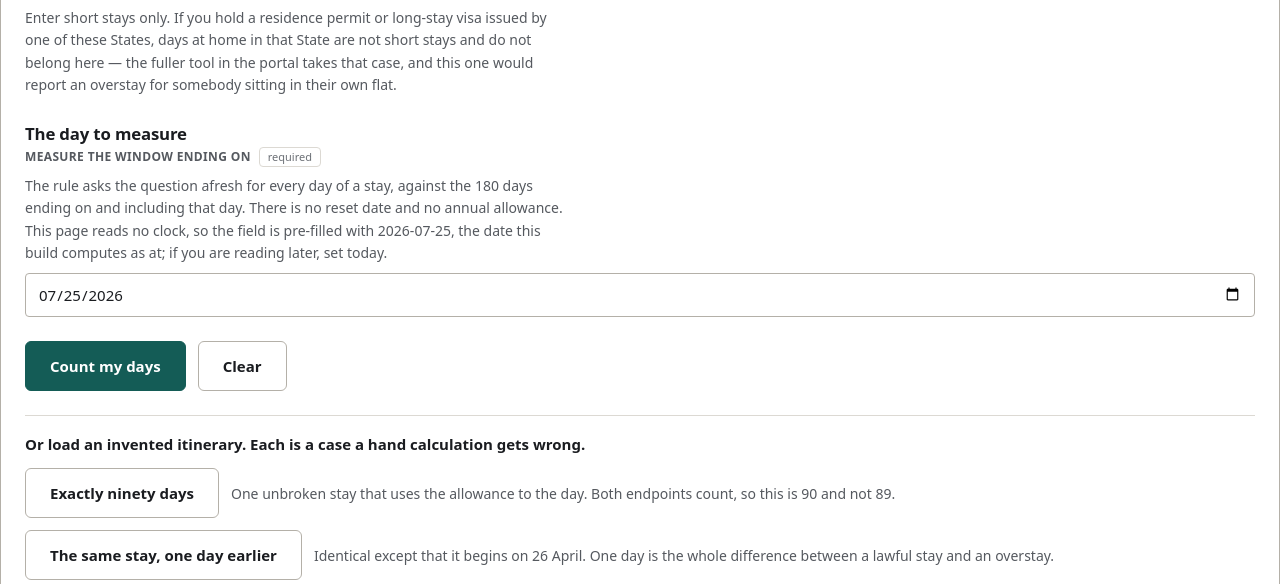
Test: the record that cannot decide › still shows the trip that charged nothing, with the reason
This screenshot has width=1280, height=584.
(page scrolled)
In the date field labelled "Measure the window ending on required": x=640, y=294 [25,272,1255,316], type "2024-12-31"
(page scrolled)
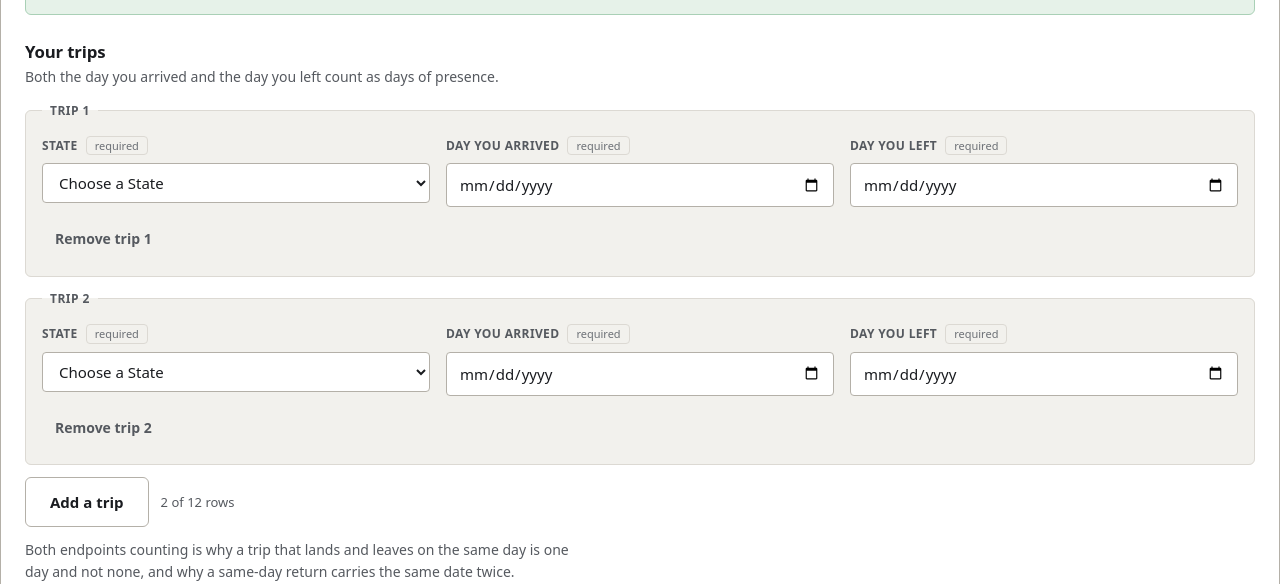
Select "Spain" in the 1st dropdown labelled "State required": x=236, y=183 [42,163,430,203]
In the 1st date field labelled "Day you arrived required": x=640, y=185 [446,163,834,207], type "2024-10-01"
In the 1st date field labelled "Day you left required": x=1044, y=185 [850,163,1238,207], type "2024-12-01"
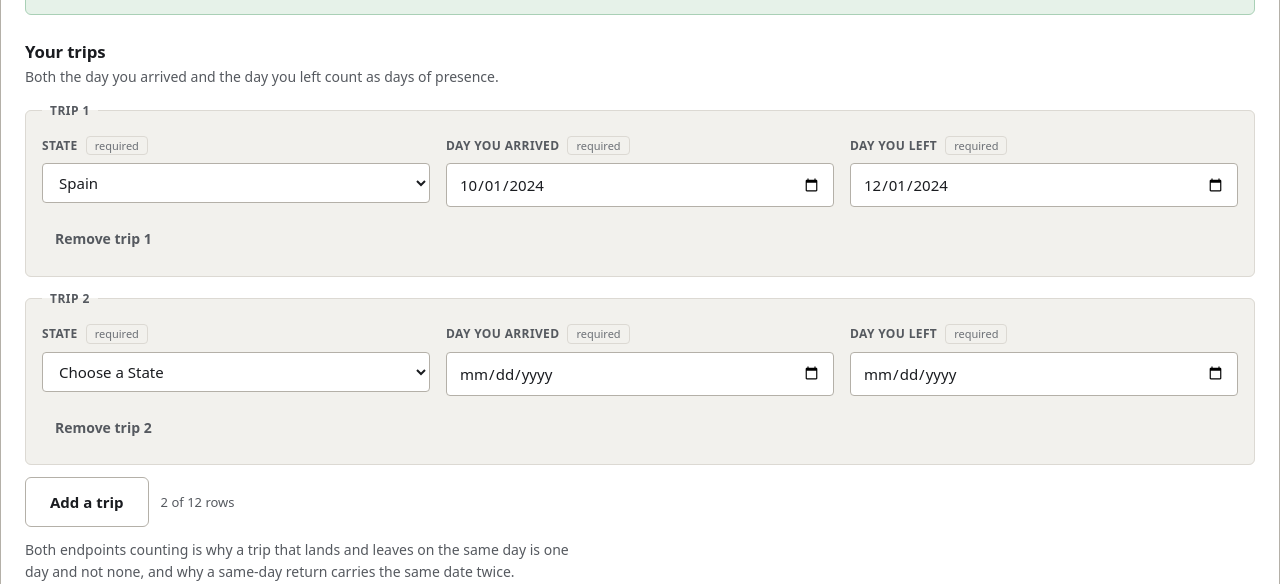
Select "Bulgaria" in the 2nd dropdown labelled "State required": x=236, y=372 [42,352,430,392]
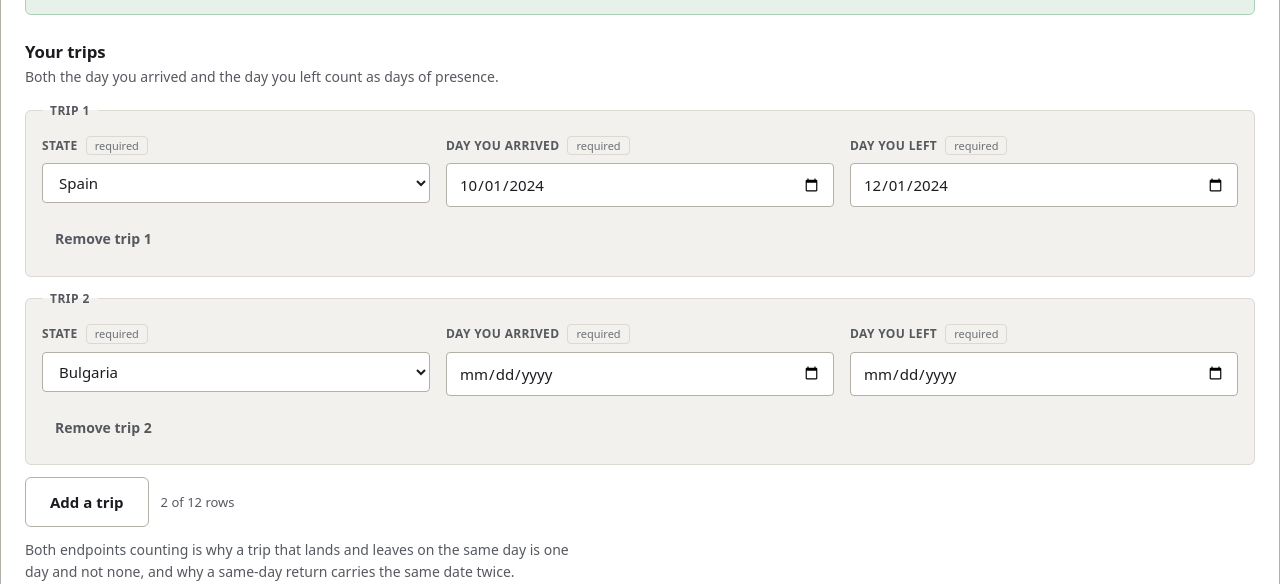
In the 2nd date field labelled "Day you arrived required": x=640, y=374 [446,352,834,396], type "2024-12-02"
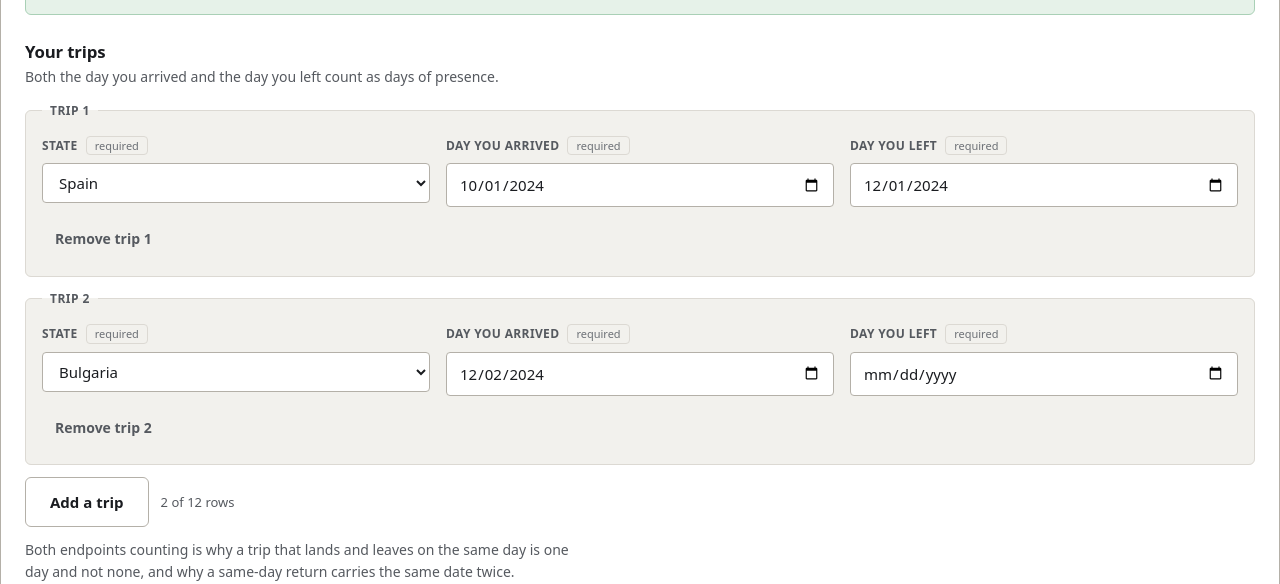
In the 2nd date field labelled "Day you left required": x=1044, y=374 [850,352,1238,396], type "2024-12-31"
(page scrolled)
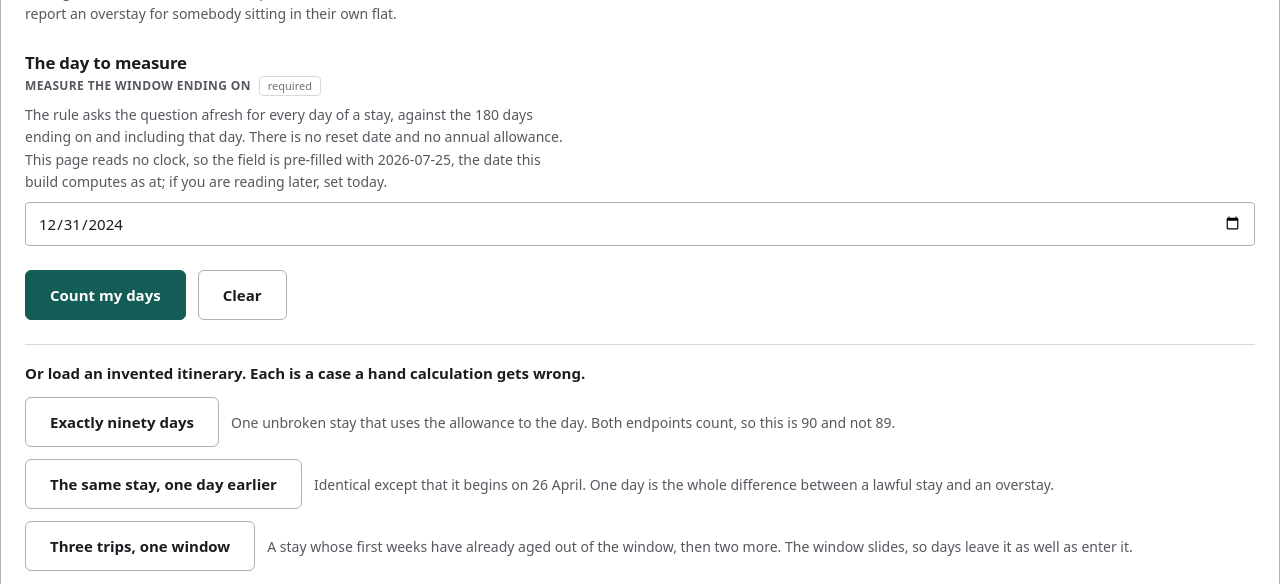
Click the button "Count my days": x=105, y=294 [25,270,186,320]
(page scrolled)
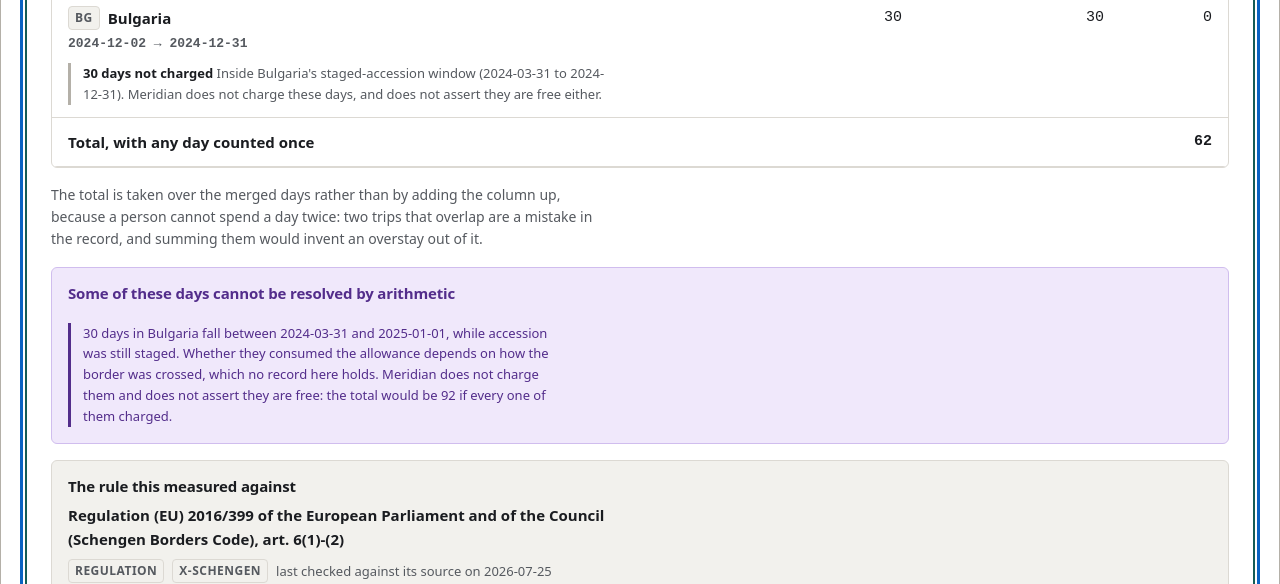
Result: the element that starts with "What the rule makes of your dates" shows "Bulgaria" at [108,8,171,28]
